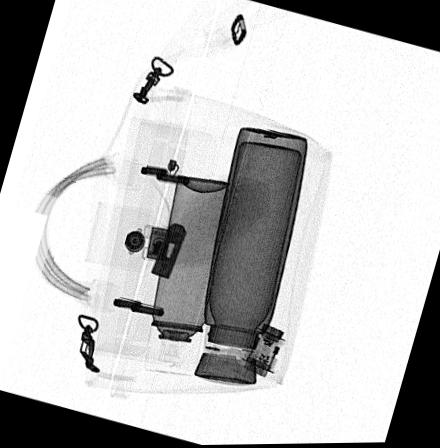Sprayer: (142, 175, 229, 378)
